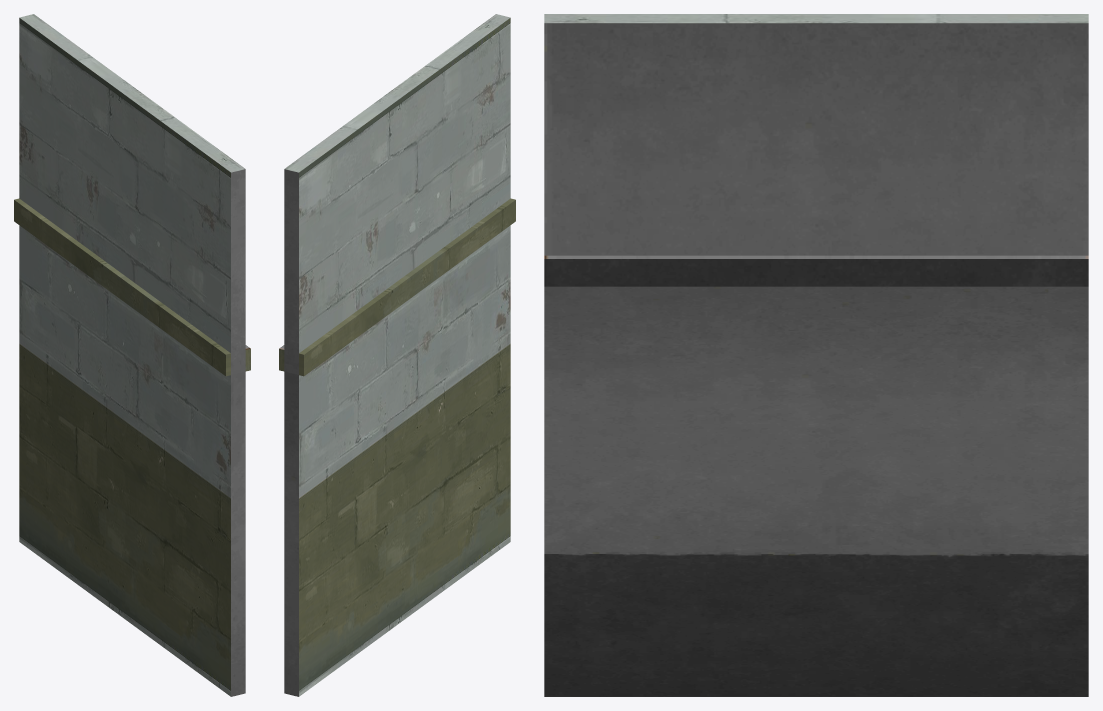
Rendered from Wall_Medium2.fbx.
3 renders of one model, left to right at view 1: azimuth 30°, elevation 25°; view 2: azimuth 150°, elevation 25°; view 3: azimuth 270°, elevation 25°, orthographic. The views are drawn at different scales.
Parts seen in each view (by area): view 1: Wall_Medium.004; view 2: Wall_Medium.004; view 3: Wall_Medium.004.
Boxes of the visible parts, x1,y1,x2,y2 form: Wall_Medium.004: (14, 14, 250, 696); Wall_Medium.004: (279, 14, 515, 696); Wall_Medium.004: (544, 14, 1088, 696).
Size of the model in its own units: 0.4076 by 8.13 by 5.96.
